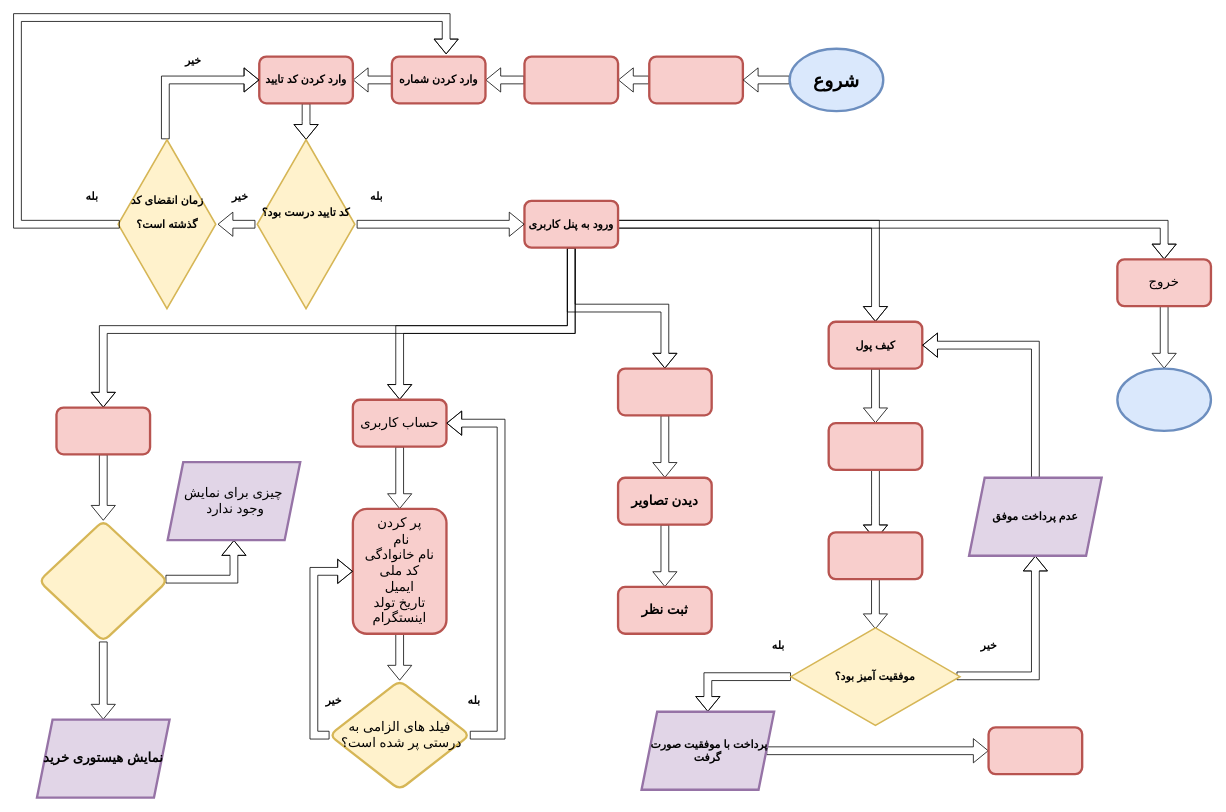
The diagram is 1226 pixels wide and 812 high, and some of its shapes have lost their labels. The centre of each missing label's shape, as x and y in pixels:
"افزایش اعتبار" goes at point (1035, 750).
"انتحاب ورود" goes at point (571, 79).
"خرید های فروشگاه" goes at point (103, 430).
"قبلا خریدی صورت گرفته؟" goes at point (102, 580).
"وارد سایت شدن" goes at point (696, 79).
"وارد کردن مبلغ" goes at point (875, 446).
"پایان" goes at point (1164, 399).
"پرداخت" goes at point (875, 555).
"پروژه های پرداخت شده" goes at point (664, 391).
